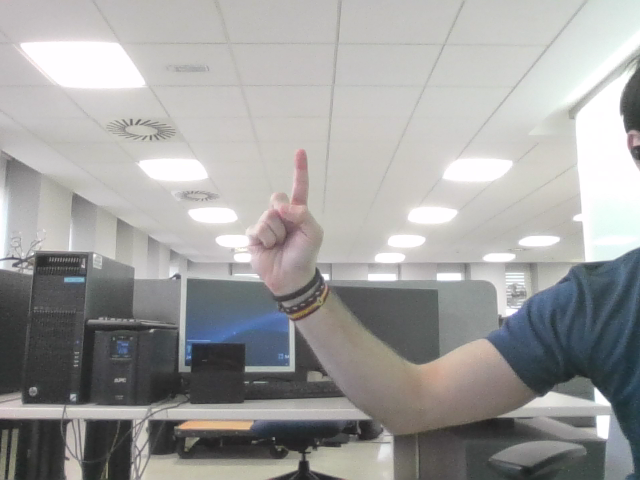1Dedo: (258, 158, 311, 256)
